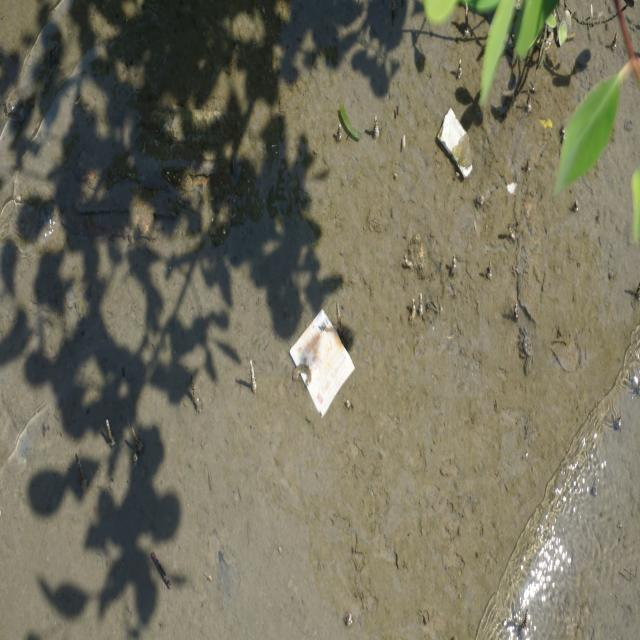Bungkus Makanan: (435, 104, 479, 182)
Bungkus Minuman: (287, 310, 358, 421)
